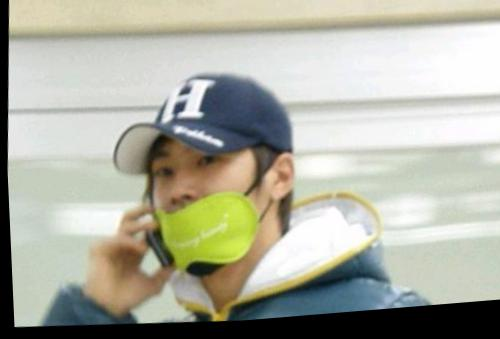WRONG: (133, 131, 269, 272)
